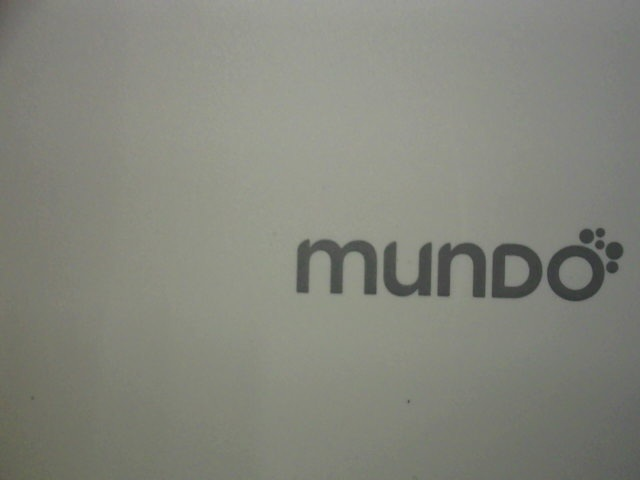BI_MUNDO: (283, 210, 628, 305)
